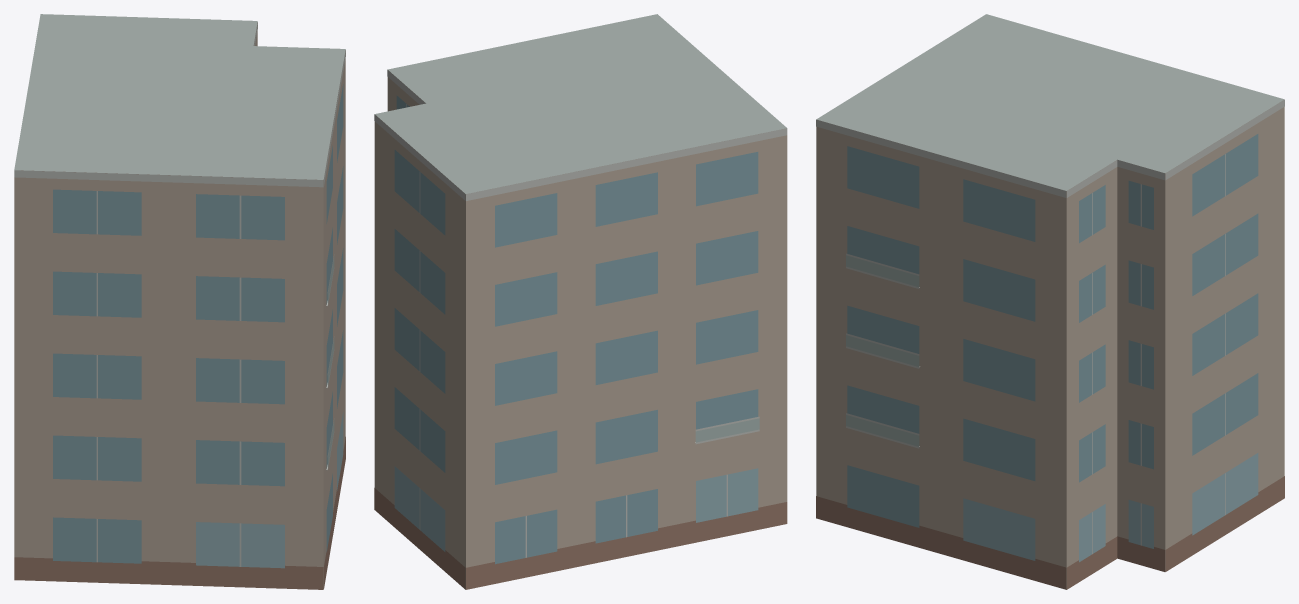
File: survey-upis-32787104.glb
3 views of the same model, side by side, from view 1: azimuth 30°, elevation 25°; view 2: azimuth 150°, elevation 25°; view 3: azimuth 270°, elevation 25° (orthographic). The views are drawn at different scales.
Parts seen in each view (by area): view 1: survey-upis-32787104.tmp; view 2: survey-upis-32787104.tmp; view 3: survey-upis-32787104.tmp.
Boxes of the visible parts, x1,y1,x2,y2 form: survey-upis-32787104.tmp: [14, 14, 345, 589]; survey-upis-32787104.tmp: [374, 14, 787, 589]; survey-upis-32787104.tmp: [816, 14, 1284, 589].
Bounding box in the file's own units: 13.05 × 13.7 × 14.6.
